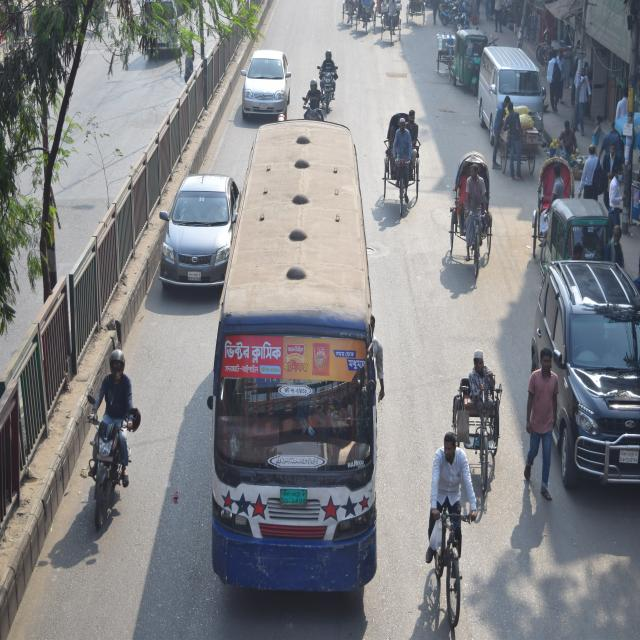bus: (218, 112, 373, 604)
car: (529, 253, 640, 495), (150, 165, 241, 291)
microbus: (474, 44, 546, 150), (242, 44, 287, 118)
motorbike: (78, 396, 134, 546), (317, 59, 338, 116)
